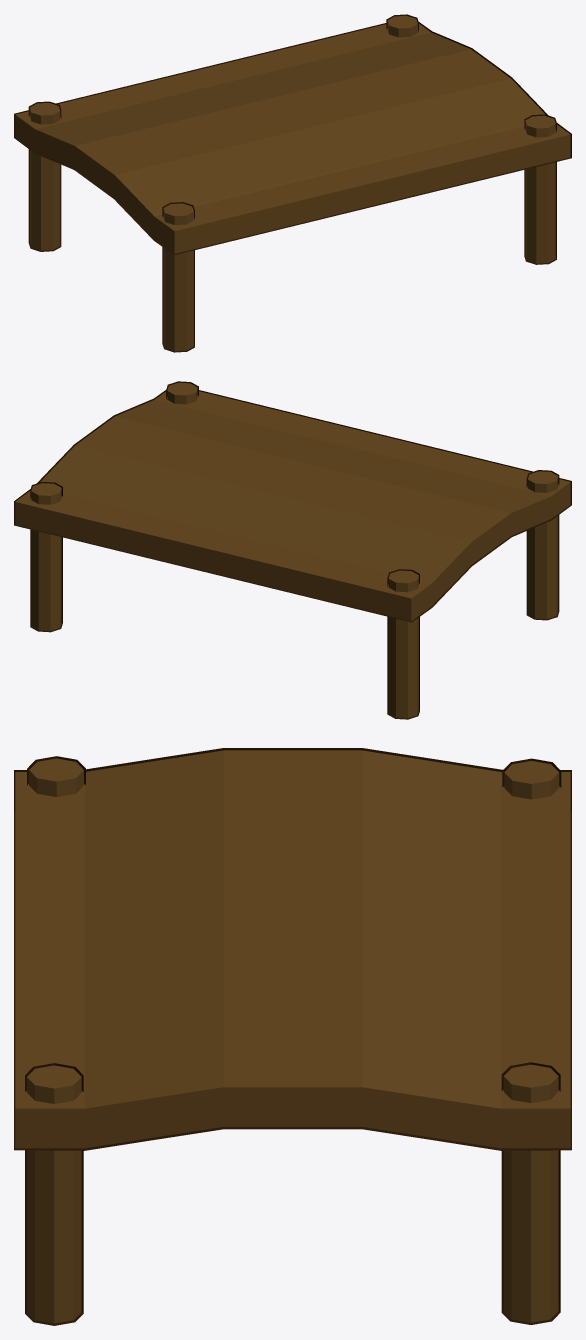
The model's file is OutdoorTable_(Outlined)_v002.fbx.
The picture shows the model from 3 angles, top to bottom: view 1: azimuth 30°, elevation 25°; view 2: azimuth 150°, elevation 25°; view 3: azimuth 270°, elevation 25°; orthographic projection. The views are drawn at different scales.
Parts seen in each view (by area): view 1: Cylinder.030; view 2: Cylinder.030; view 3: Cylinder.030.
Part boxes in pixels (box(x1,y1,x2,y2)): Cylinder.030: box(14, 14, 571, 352); Cylinder.030: box(14, 381, 571, 719); Cylinder.030: box(14, 748, 571, 1325).
Bounding box in the file's own units: 617 × 208 × 430.
